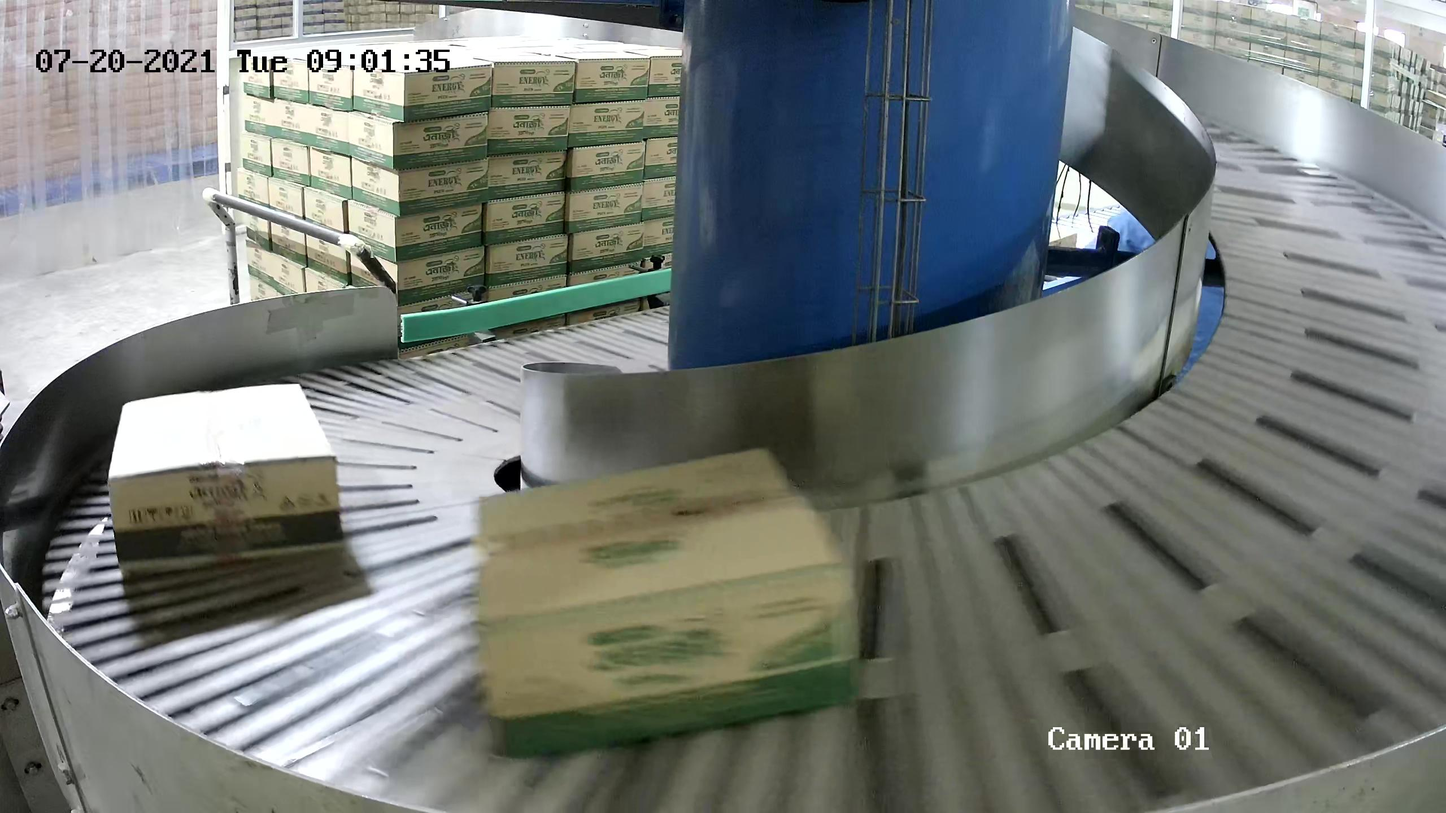Box: (473, 444, 863, 756), (104, 380, 348, 583)
